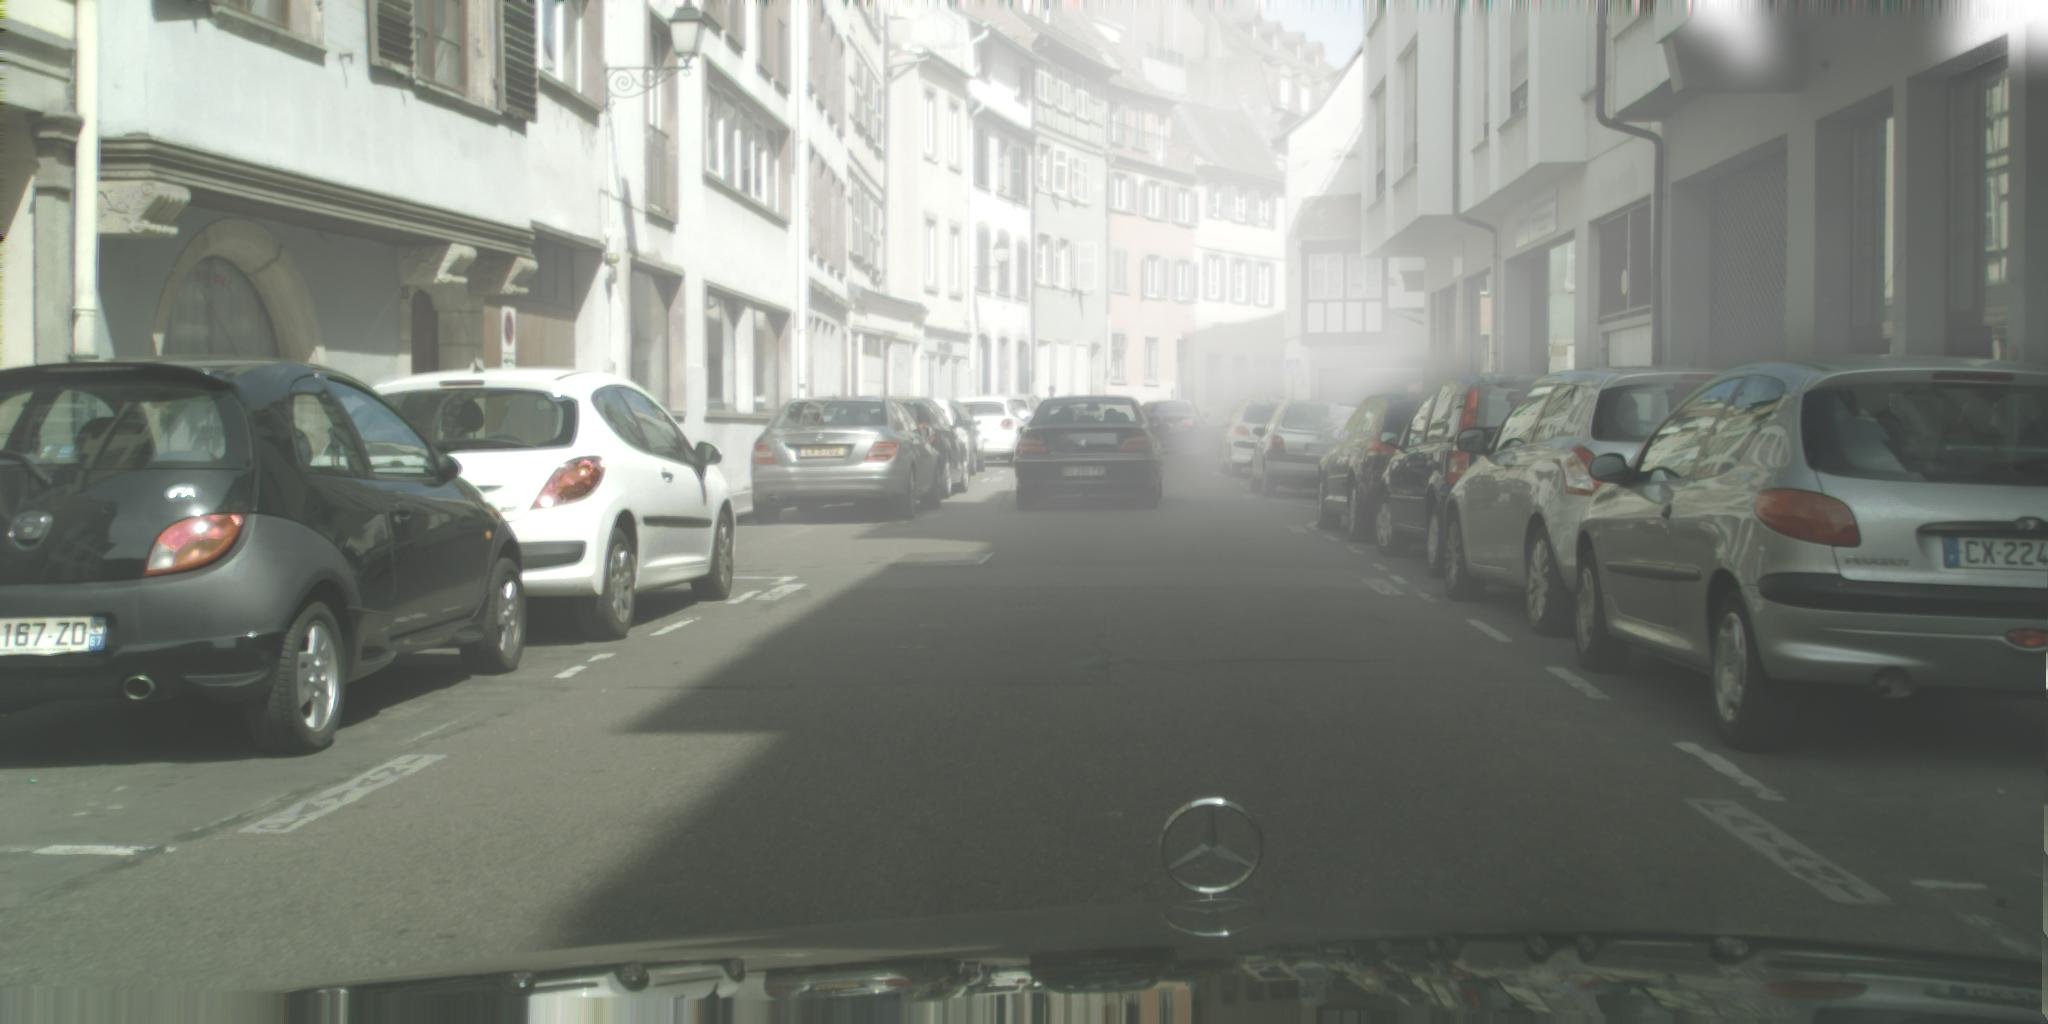car: (1, 355, 528, 758), (1574, 354, 2048, 754), (360, 366, 737, 640), (1443, 366, 1733, 637), (1375, 375, 1546, 579), (752, 396, 942, 525), (1015, 396, 1170, 511), (1318, 393, 1432, 543), (856, 396, 970, 499), (1250, 401, 1364, 498), (1219, 398, 1307, 477), (943, 398, 1033, 468), (920, 402, 986, 477), (1138, 401, 1211, 455), (974, 393, 1049, 439)
